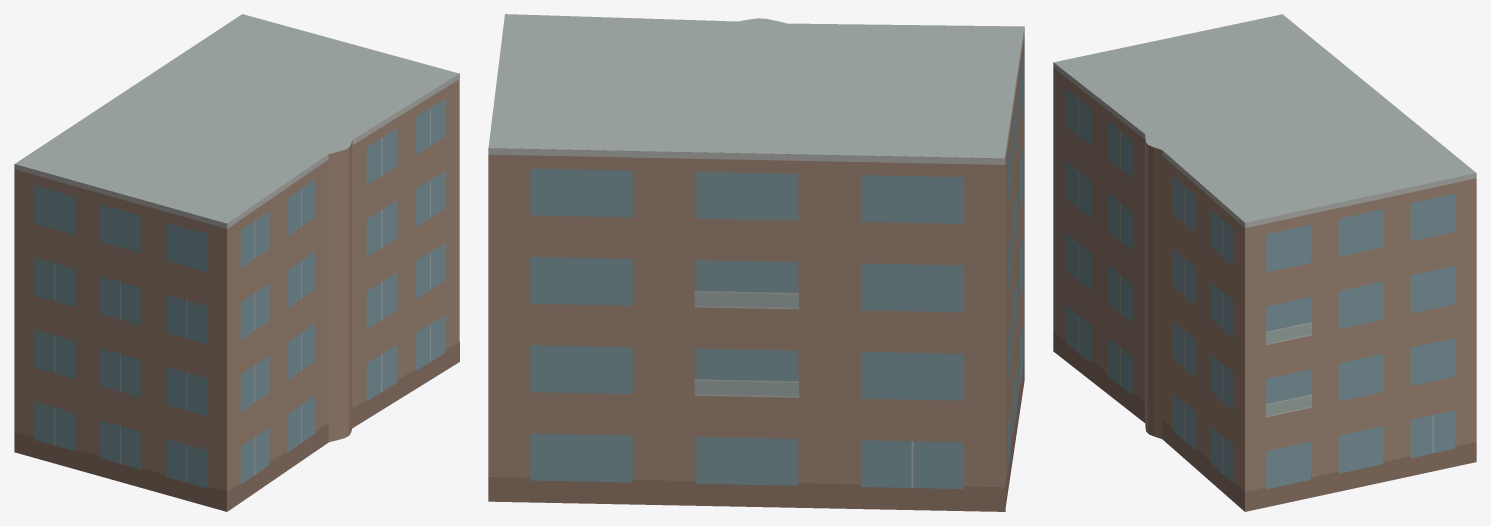
The model's file is survey-upis-32708357.glb.
3 renders of one model, left to right at view 1: azimuth 30°, elevation 25°; view 2: azimuth 150°, elevation 25°; view 3: azimuth 270°, elevation 25°, orthographic. The views are drawn at different scales.
Parts seen in each view (by area): view 1: survey-upis-32708357.tmp; view 2: survey-upis-32708357.tmp; view 3: survey-upis-32708357.tmp.
Boxes of the visible parts, x1,y1,x2,y2 form: survey-upis-32708357.tmp: (14,14,459,511); survey-upis-32708357.tmp: (488,14,1024,511); survey-upis-32708357.tmp: (1053,14,1476,511).
Size of the model in its own units: 20.46 by 13.2 by 17.52.
